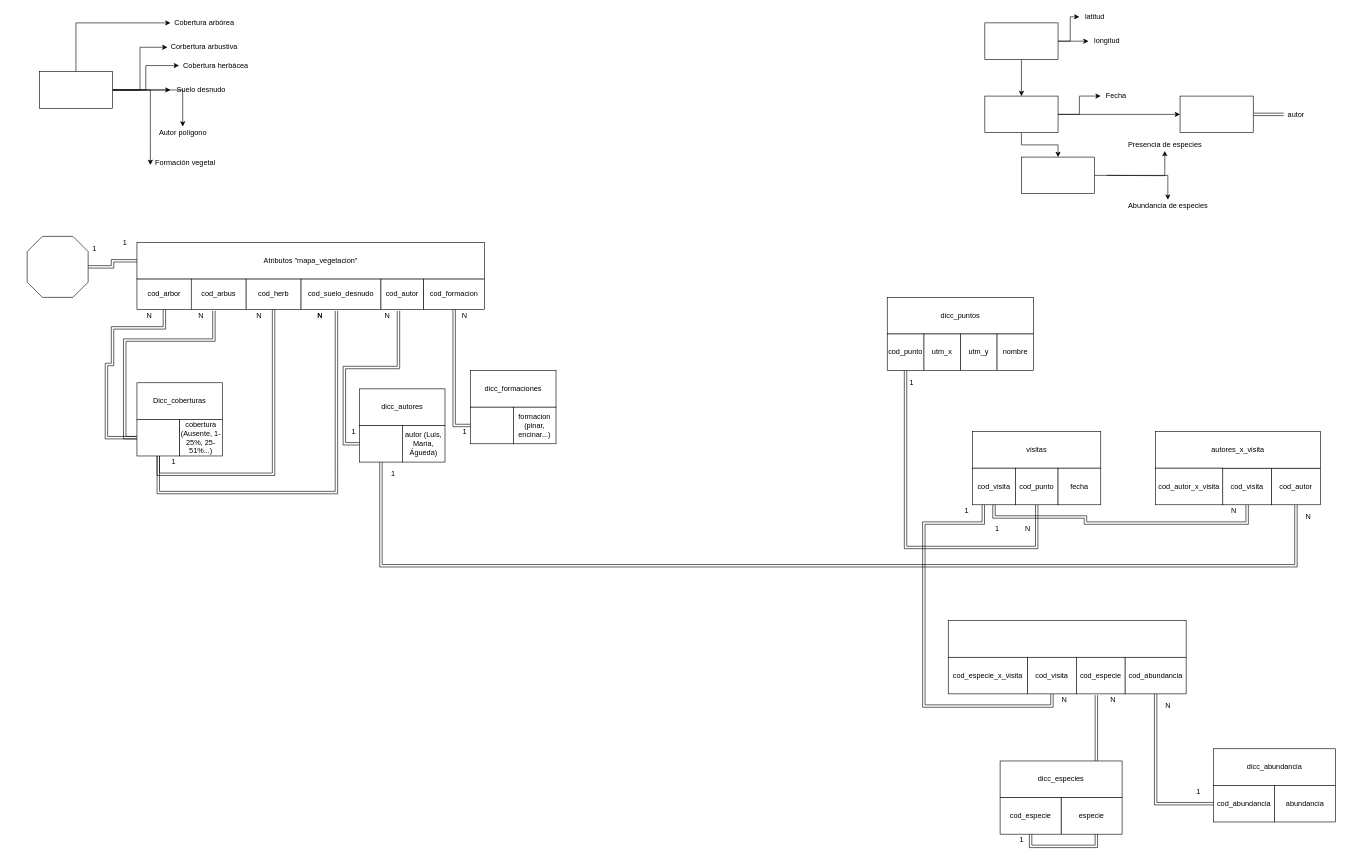
This 1346x858 diagram has some shape labels left out. The shapes that lost their labels are listed below. From the top down, each one's centre as x and y in pixels, then its label:
At (x=1021, y=40): "Punto de muestreo".
At (x=76, y=89): "Polígono de vegetación homogénea".
At (x=1021, y=114): "Visita por punto".
At (x=1216, y=114): "autores por visita".
At (x=1058, y=175): "Especies por visita".
At (x=57, y=266): "Capa SIG: mapa_vegetacion".
At (x=158, y=437): "cod_cober (1,2,3)".
At (x=380, y=443): "cod_autor (1,2,3)".
At (x=491, y=425): "cod_form (1,2,3)".
At (x=1067, y=638): "especies_x_visita".
